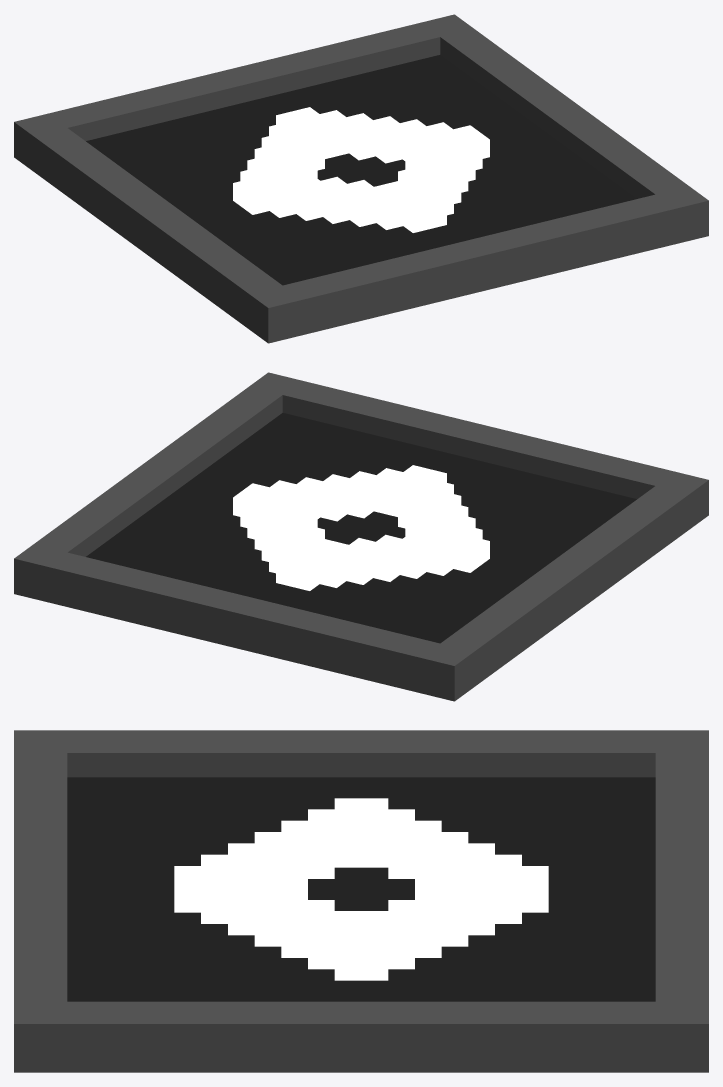
The model's file is trap_DIAMOND_WHITE.glb.
The picture shows the model from 3 angles, top to bottom: view 1: azimuth 30°, elevation 25°; view 2: azimuth 150°, elevation 25°; view 3: azimuth 270°, elevation 25°; orthographic projection. The views are drawn at different scales.
Visible parts, largest first — view 1: item_TRAP_DIAMOND_WHITE; view 2: item_TRAP_DIAMOND_WHITE; view 3: item_TRAP_DIAMOND_WHITE.
Part boxes in pixels (left/top/right/bottom): item_TRAP_DIAMOND_WHITE: left=14, top=14, right=708, bottom=343; item_TRAP_DIAMOND_WHITE: left=14, top=372, right=708, bottom=701; item_TRAP_DIAMOND_WHITE: left=14, top=730, right=708, bottom=1072.
Bounding box in the file's own units: 0.5909 × 0.0455 × 0.5909.
1 material, 1 textured.
